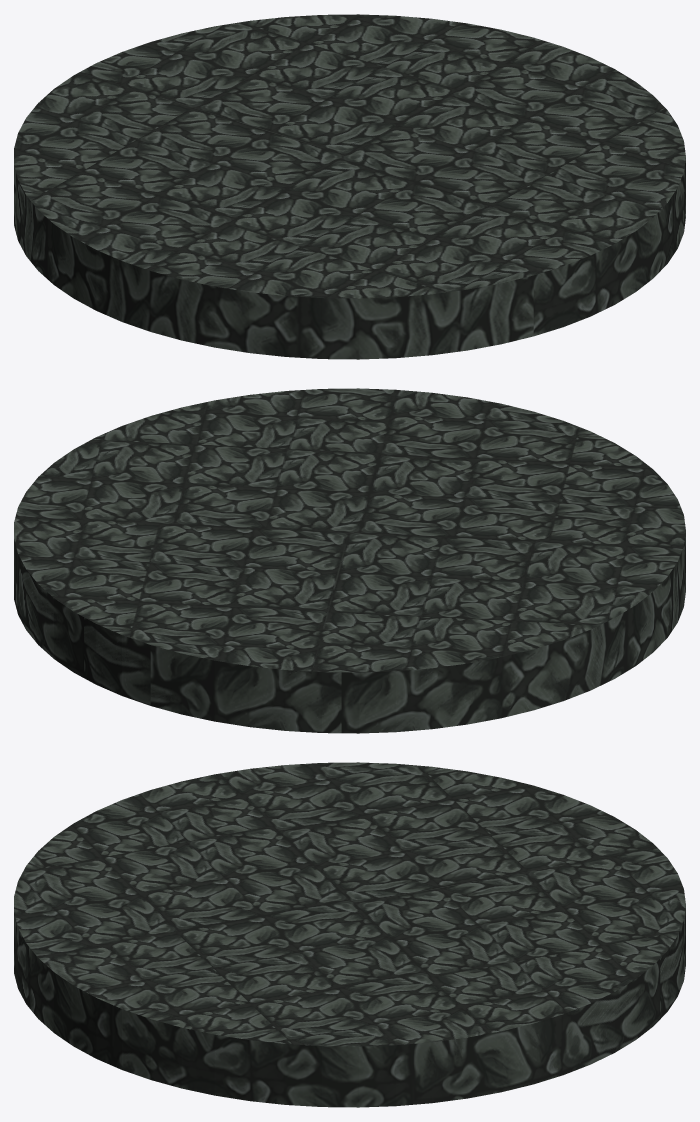
Rendered from Vloer Boss.fbx.
3 views of the same model, one above another, from view 1: azimuth 30°, elevation 25°; view 2: azimuth 150°, elevation 25°; view 3: azimuth 270°, elevation 25° (orthographic).
Visible parts, largest first — view 1: Cylinder; view 2: Cylinder; view 3: Cylinder.
Part boxes in pixels (bbox=[...]): Cylinder: bbox=[14, 14, 685, 359]; Cylinder: bbox=[14, 388, 685, 733]; Cylinder: bbox=[14, 762, 685, 1107].
Bounding box in the file's own units: 9996 × 1000 × 9992.
